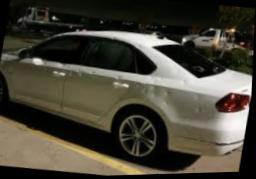Bonnet: (4, 47, 27, 57)
Door: (63, 64, 137, 117), (6, 54, 72, 113)
Fender: (129, 76, 218, 131), (0, 54, 18, 86)
